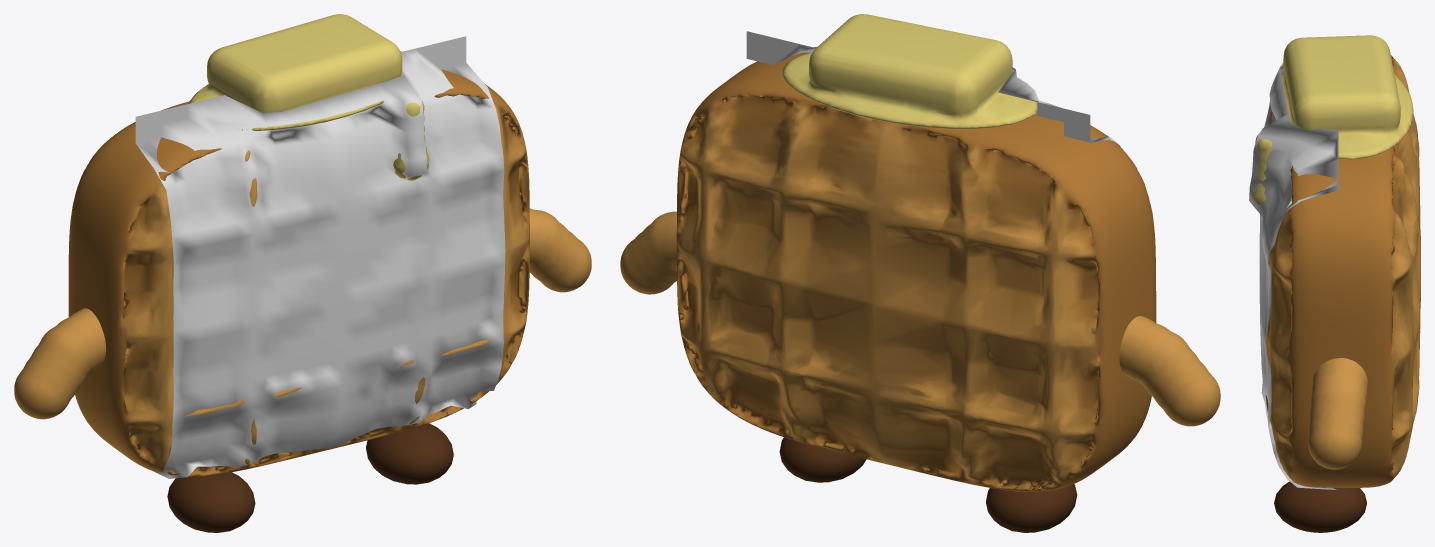
The model's file is folk2_waffle.glb.
The picture shows the model from 3 angles, left to right: view 1: azimuth 30°, elevation 25°; view 2: azimuth 150°, elevation 25°; view 3: azimuth 270°, elevation 25°; orthographic projection. The views are drawn at different scales.
Parts seen in each view (by area): view 1: waffle_face, waffle_body, waffle_arm_l, waffle_foot_l, waffle_foot_r, waffle_arm_r; view 2: waffle_body, waffle_arm_l, waffle_arm_r, waffle_face, waffle_foot_l, waffle_foot_r; view 3: waffle_body, waffle_face, waffle_arm_r, waffle_foot_r.
Part boxes in pixels (left/top/right/bottom): waffle_face: left=135, top=36, right=505, bottom=478; waffle_body: left=68, top=14, right=529, bottom=476; waffle_arm_l: left=14, top=308, right=105, bottom=419; waffle_foot_l: left=167, top=472, right=255, bottom=532; waffle_foot_r: left=366, top=423, right=453, bottom=484; waffle_arm_r: left=529, top=208, right=591, bottom=292; waffle_body: left=676, top=14, right=1156, bottom=491; waffle_arm_l: left=1119, top=316, right=1220, bottom=426; waffle_arm_r: left=620, top=211, right=676, bottom=294; waffle_face: left=746, top=31, right=1120, bottom=146; waffle_foot_l: left=986, top=484, right=1077, bottom=532; waffle_foot_r: left=779, top=437, right=866, bottom=482; waffle_body: left=1253, top=35, right=1420, bottom=487; waffle_face: left=1249, top=63, right=1338, bottom=490; waffle_arm_r: left=1308, top=358, right=1367, bottom=469; waffle_foot_r: left=1274, top=481, right=1366, bottom=532.
Size of the model in its own units: 1.18 by 0.8835 by 0.3276.
